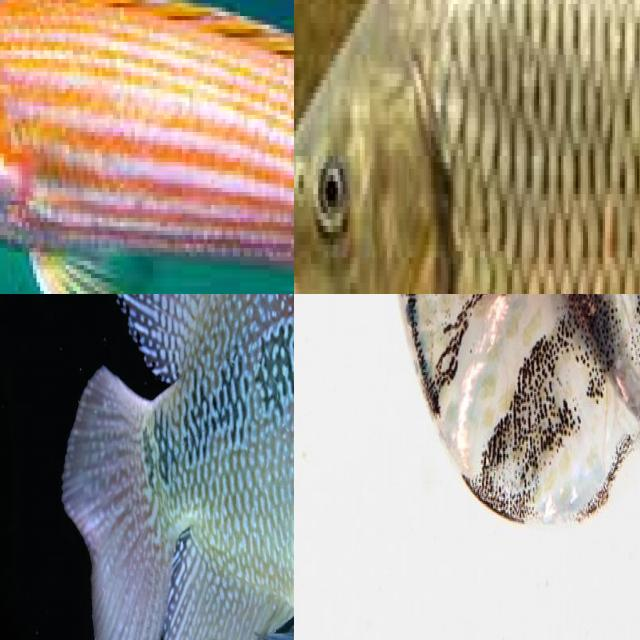fish: (294, 0, 640, 294), (0, 0, 294, 294), (351, 294, 640, 531), (212, 342, 294, 601)
